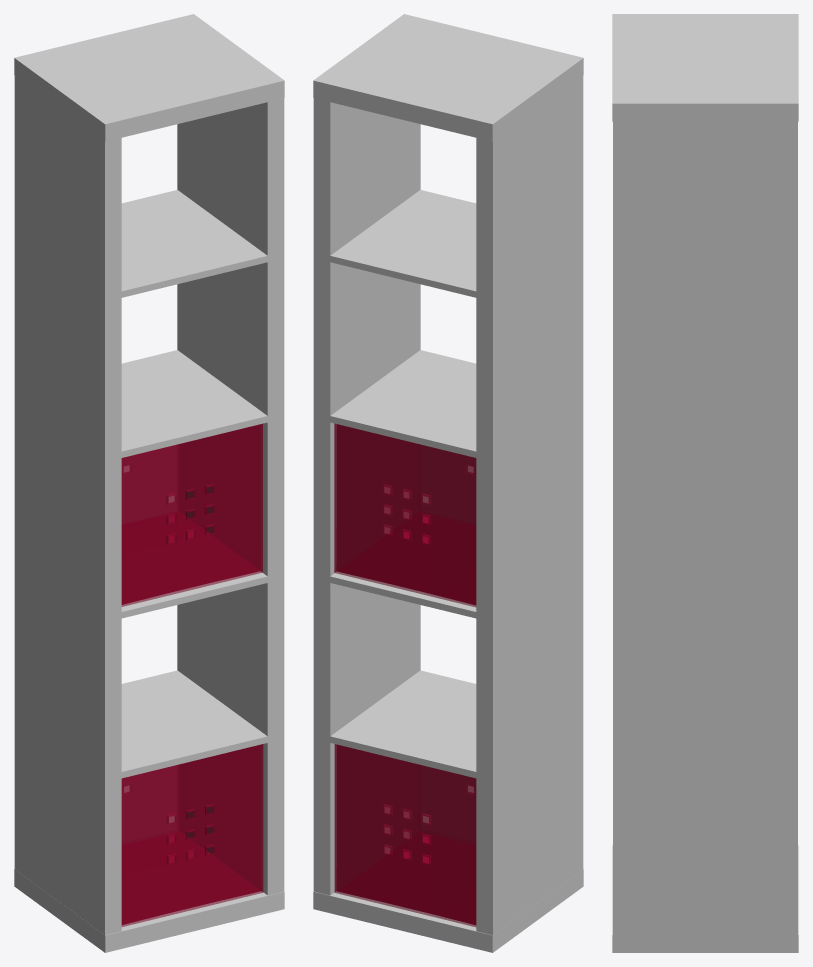
File: sweethome3d-blendswap-cc-0-vertical-shelves-60.glb
3 views of the same model, side by side, from view 1: azimuth 30°, elevation 25°; view 2: azimuth 150°, elevation 25°; view 3: azimuth 270°, elevation 25° (orthographic). The views are drawn at different scales.
Visible parts, largest first — view 1: Cube.002, Cube.003_Cube.008, Cube.015_Cube.022, Cube.016_Cube.003, Cube.001, Cube.007, Cube.006, Cube.004, Cube, Cube.005; view 2: Cube.002, Cube.003_Cube.008, Cube.016_Cube.003, Cube.015_Cube.022, Cube.001, Cube.007, Cube.006, Cube.004, Cube, Cube.005; view 3: Cube.003_Cube.008, Cube.001, Cube.
Boxes of the visible parts, box(x1,y1,x2,y2) form: Cube.002: box(14, 76, 121, 935); Cube.003_Cube.008: box(177, 98, 284, 895); Cube.015_Cube.022: box(121, 744, 263, 926); Cube.016_Cube.003: box(121, 423, 262, 606); Cube.001: box(14, 14, 284, 141); Cube.007: box(121, 190, 267, 297); Cube.006: box(121, 350, 267, 457); Cube.004: box(121, 670, 267, 778); Cube: box(14, 869, 284, 952); Cube.005: box(121, 571, 267, 618); Cube.002: box(476, 76, 583, 935); Cube.003_Cube.008: box(313, 98, 420, 895); Cube.016_Cube.003: box(334, 423, 476, 607); Cube.015_Cube.022: box(334, 744, 476, 926); Cube.001: box(313, 14, 583, 141); Cube.007: box(330, 190, 476, 297); Cube.006: box(330, 350, 476, 457); Cube.004: box(330, 670, 476, 778); Cube: box(313, 869, 583, 952); Cube.005: box(330, 571, 476, 618); Cube.003_Cube.008: box(613, 121, 797, 934); Cube.001: box(612, 14, 798, 121); Cube: box(612, 845, 798, 952).
Size of the model in its own units: 44.48 by 196 by 39.01.
